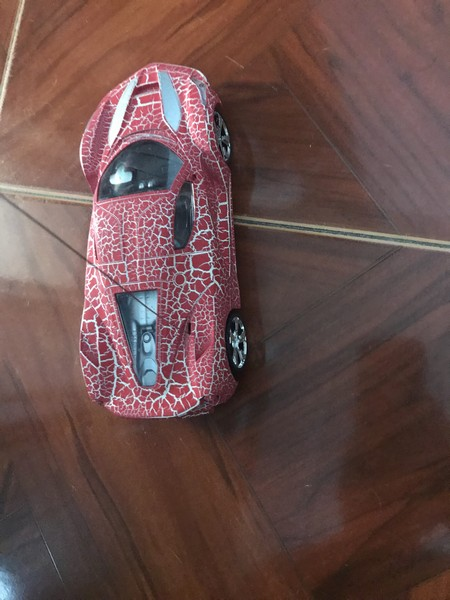RC: (75, 60, 251, 423)
